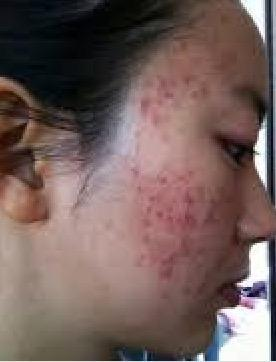fore: (170, 165, 191, 183), (205, 186, 228, 202), (138, 211, 155, 232), (147, 111, 163, 132), (160, 91, 182, 106), (183, 68, 200, 87), (199, 206, 220, 221), (135, 93, 149, 115), (130, 182, 146, 200), (163, 209, 179, 227), (180, 285, 196, 302), (137, 227, 155, 242), (195, 275, 211, 290), (182, 208, 195, 226), (183, 188, 195, 207), (153, 207, 165, 225), (158, 248, 174, 261), (195, 85, 212, 97), (191, 244, 207, 256), (160, 262, 173, 276), (187, 89, 199, 104), (177, 231, 187, 249), (166, 76, 180, 88), (154, 169, 163, 186), (129, 162, 139, 177), (145, 190, 155, 204), (156, 76, 165, 89), (138, 250, 147, 263), (157, 284, 165, 295)
